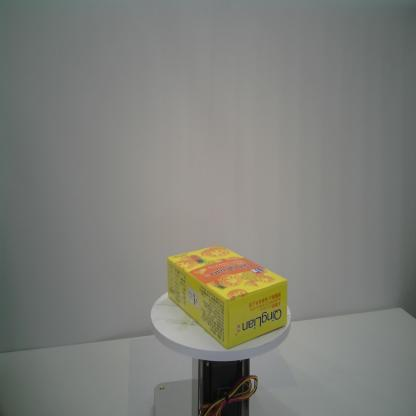Dessert: (167, 244, 288, 350)
